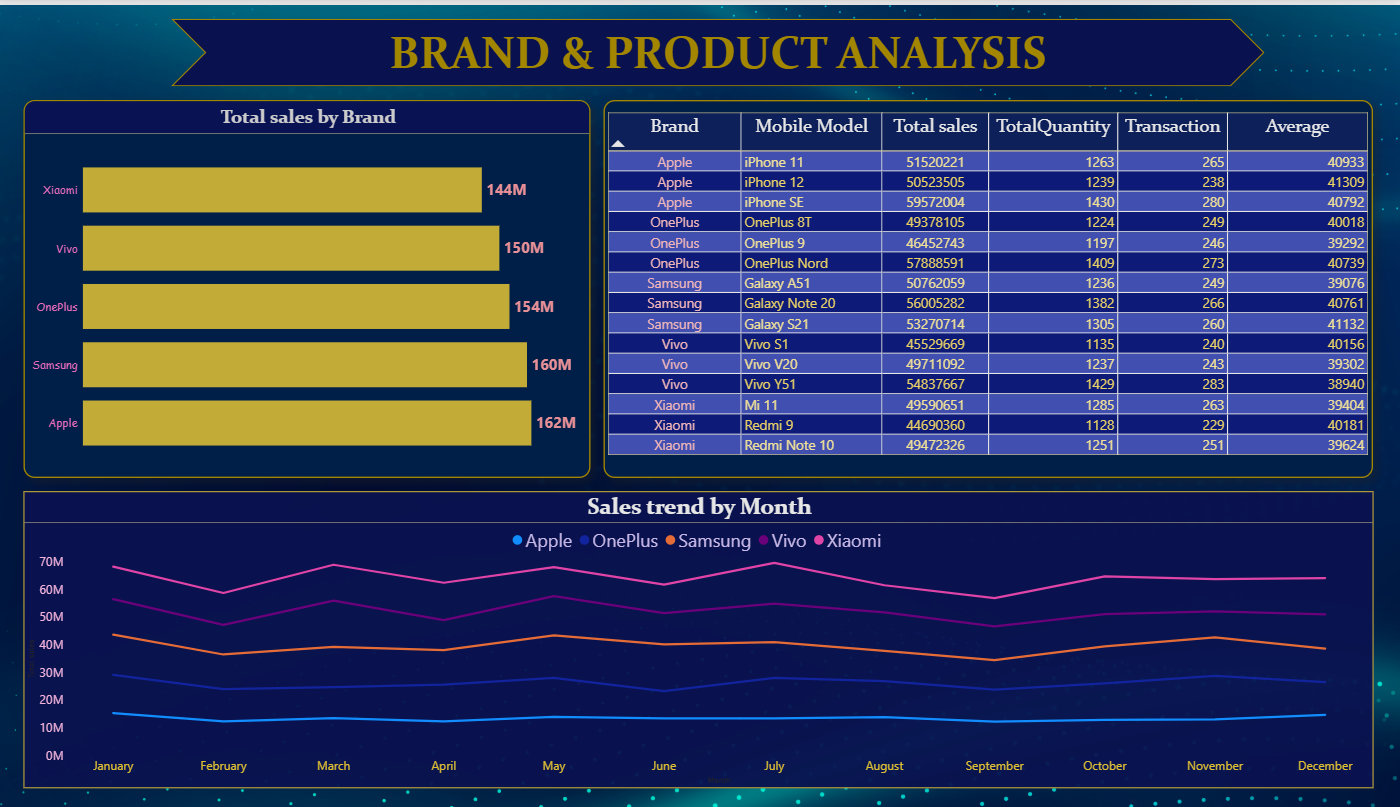

The dashboard page shown, as its layout file describes it:
{"tool":"powerbi","page":{"name":"Brand & product performance","canvas":[2500,1500],"ordinal":1},"visuals":[{"type":"shape","box":[312,24,1944,120],"z":0},{"type":"barChart","fields":{"Category":["Mobile_sales_data dasboard.Brand"],"Y":["Mobile_sales_data dasboard.Total sales"]},"box":[48,168,1008,672],"z":1000},{"type":"tableEx","fields":{"Values":["Mobile_sales_data dasboard.Brand","Mobile_sales_data dasboard.Mobile Model","Mobile_sales_data dasboard.Total sales","Mobile_sales_data dasboard.TotalQuantity","Mobile_sales_data dasboard.Transaction","Mobile_sales_data dasboard.Average"]},"box":[1080,168,1368,672],"z":2000},{"type":"stackedAreaChart","title":" Sales trend by Month","fields":{"Category":["Mobile_sales_data dasboard.DATE.Variation.Date Hierarchy.Month"],"Series":["Mobile_sales_data dasboard.Brand"],"Y":["Mobile_sales_data dasboard.Total sales"]},"box":[48,864,2400,528],"z":3001}]}

Visuals, with their boxes on the page's 2500x1500 design canvas (x1, y1, x2, y2). These are canvas units, not pixel positions in the 1400x807 screenshot, which may show the page scaled, cropped or inside an application window:
shape: <region>312, 24, 2256, 144</region>
barChart - Mobile_sales_data dasboard.Brand x Mobile_sales_data dasboard.Total sales: <region>48, 168, 1056, 840</region>
tableEx - Mobile_sales_data dasboard.Brand x Mobile_sales_data dasboard.Mobile Model: <region>1080, 168, 2448, 840</region>
" Sales trend by Month" stackedAreaChart: <region>48, 864, 2448, 1392</region>
